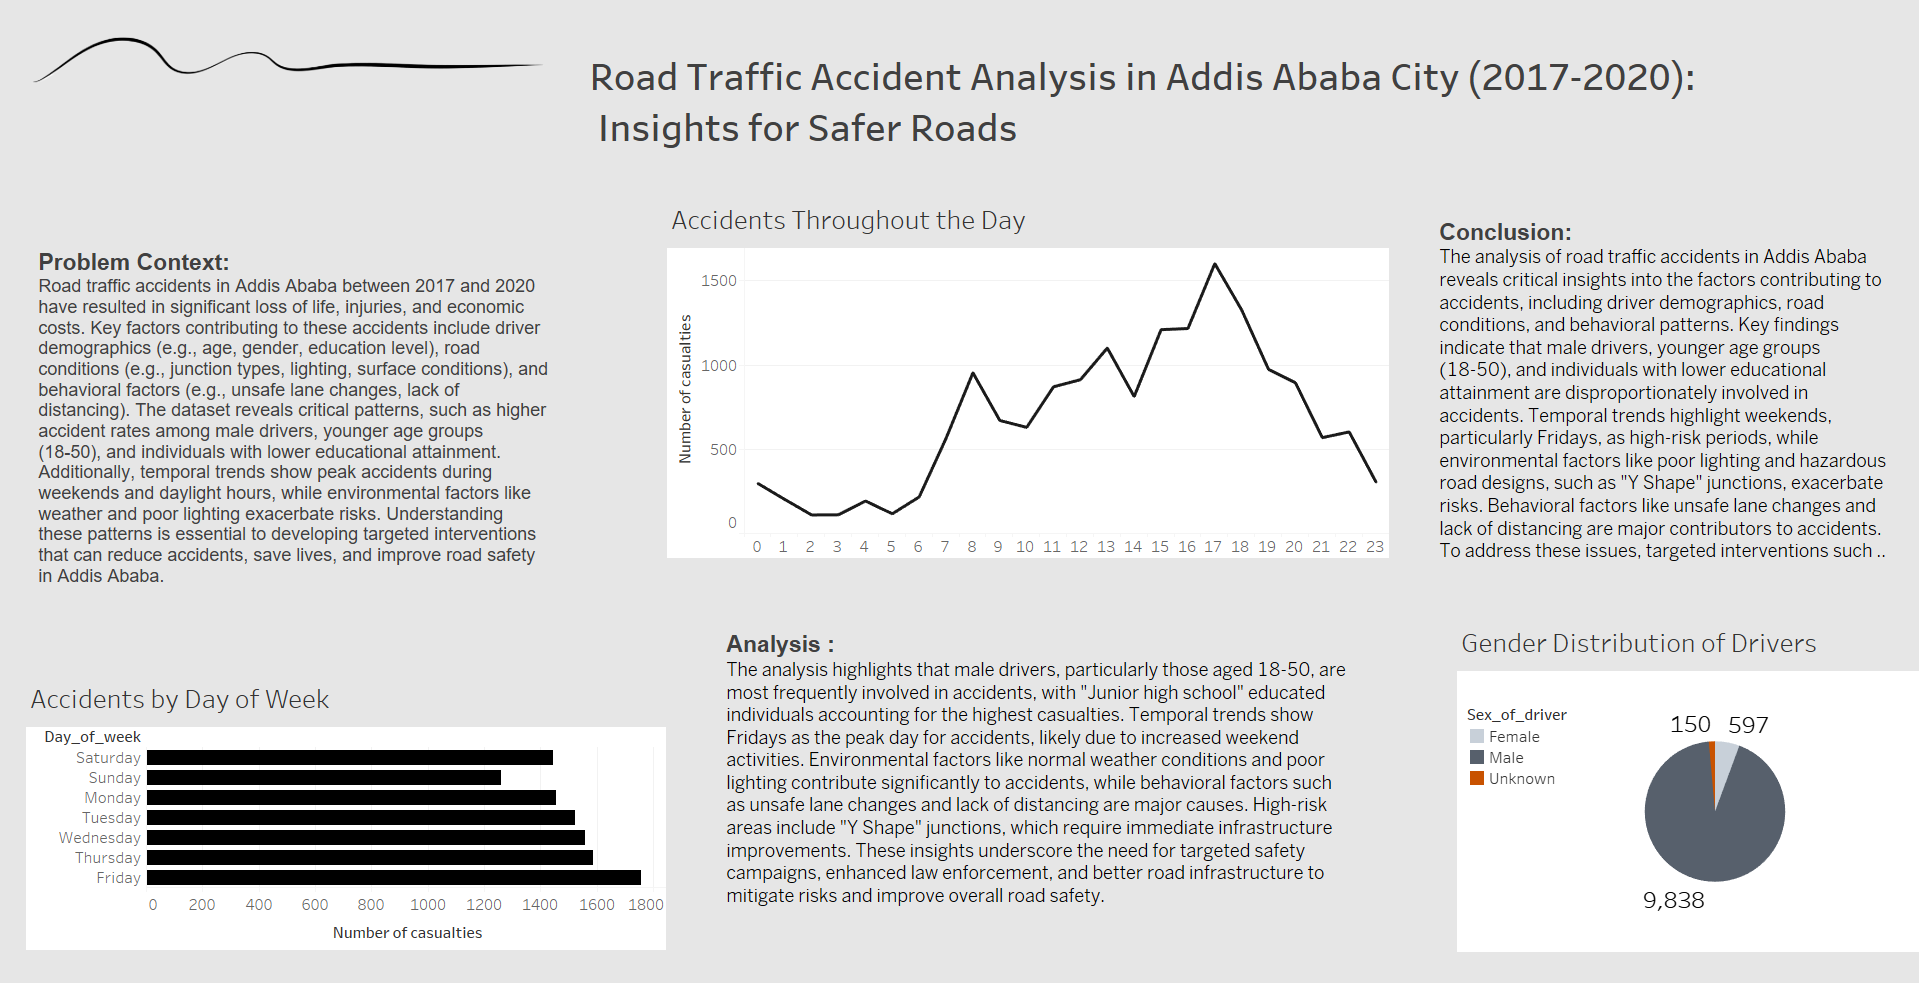

The dashboard page shown, as its layout file describes it:
{"tool":"tableau","page":{"name":"Dashboard 1","canvas":[1000,1000],"units":"permille","ordinal":0},"visuals":[{"type":"text","box":[111.3,13.7,172.2,161.1]},{"type":"text","box":[757.5,48.7,184,43.7]},{"type":"text","box":[552.4,54.9,131.2,37.5]},{"type":"text","box":[347.4,56.2,110.7,43.7]},{"type":"worksheet","title":"Total Accidents ","mark":"Automatic","box":[357.4,74.9,75,81.2]},{"type":"worksheet","title":"Total Casualties","mark":"Automatic","box":[576.5,87.4,66.2,54.9]},{"type":"worksheet","title":"Average Vehicles Involved","mark":"Automatic","box":[824.2,89.9,34,56.2]},{"type":"text","box":[123,197.2,134.7,40]},{"type":"text","box":[624.5,208.5,222.6,40]},{"type":"worksheet","title":"Accidents Throughout the Day","mark":"Automatic","rows":["Number_of_casualties"],"cols":["Time"],"box":[7.6,262.2,465.7,375.8]},{"type":"worksheet","title":"Casualty Distribution Across Driver Age Groups","mark":"Automatic","rows":["Age_band_of_driver"],"cols":["Number_of_casualties"],"box":[526.1,313.4,404.2,340.8]},{"type":"worksheet","title":"Gender Distribution of Drivers","mark":"Pie","box":[534.9,621.7,394.8,354.6]},{"type":"worksheet","title":"Accidents by Day of Week","mark":"Automatic","rows":["Day_of_week"],"cols":["Number_of_casualties"],"box":[14.1,656.7,478,342.1]},{"type":"legend","title":"Gender Distribution of Drivers","param":"[federated.1hnsbpb1eh6eci17qp7rs1ai08b3].[none:Sex_of_driver:nk]","box":[543.6,705.4,82,106.1]}]}

Visuals, with their boxes on the dashboard's canvas, which has no fixed pixel size, in thousandths of its width and height (x1, y1, x2, y2). These are canvas units, not pixel positions in the 1919x983 screenshot, which may show the page scaled, cropped or inside an application window:
text: {"left": 111, "top": 14, "right": 284, "bottom": 175}
text: {"left": 758, "top": 49, "right": 942, "bottom": 92}
text: {"left": 552, "top": 55, "right": 684, "bottom": 92}
text: {"left": 347, "top": 56, "right": 458, "bottom": 100}
"Total Accidents " worksheet: {"left": 357, "top": 75, "right": 432, "bottom": 156}
"Total Casualties" worksheet: {"left": 576, "top": 87, "right": 643, "bottom": 142}
"Average Vehicles Involved" worksheet: {"left": 824, "top": 90, "right": 858, "bottom": 146}
text: {"left": 123, "top": 197, "right": 258, "bottom": 237}
text: {"left": 624, "top": 208, "right": 847, "bottom": 248}
"Accidents Throughout the Day" worksheet: {"left": 8, "top": 262, "right": 473, "bottom": 638}
"Casualty Distribution Across Driver Age Groups" worksheet: {"left": 526, "top": 313, "right": 930, "bottom": 654}
"Gender Distribution of Drivers" worksheet (Pie marks): {"left": 535, "top": 622, "right": 930, "bottom": 976}
"Accidents by Day of Week" worksheet: {"left": 14, "top": 657, "right": 492, "bottom": 999}
"Gender Distribution of Drivers" legend: {"left": 544, "top": 705, "right": 626, "bottom": 812}
